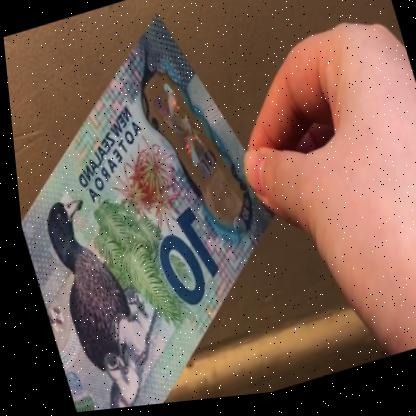10F: (141, 66, 221, 193)
